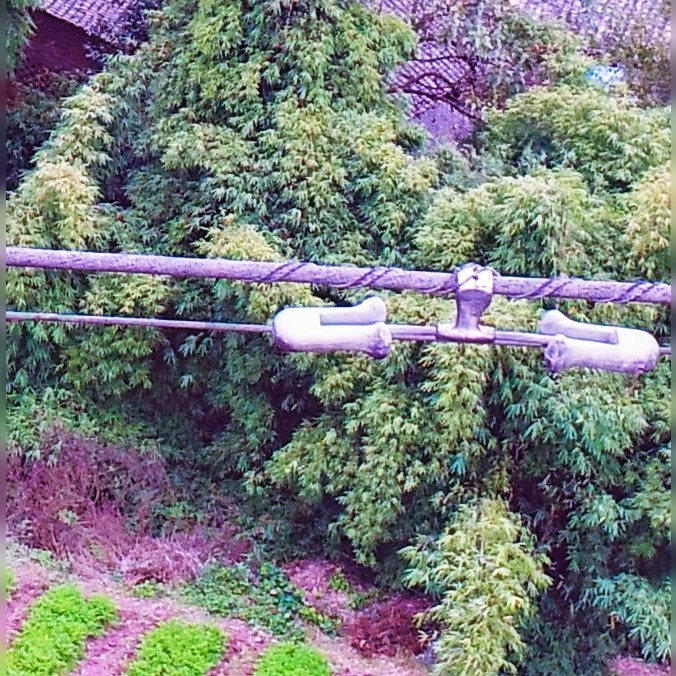Shockproof hammer: (253, 248, 665, 381)
